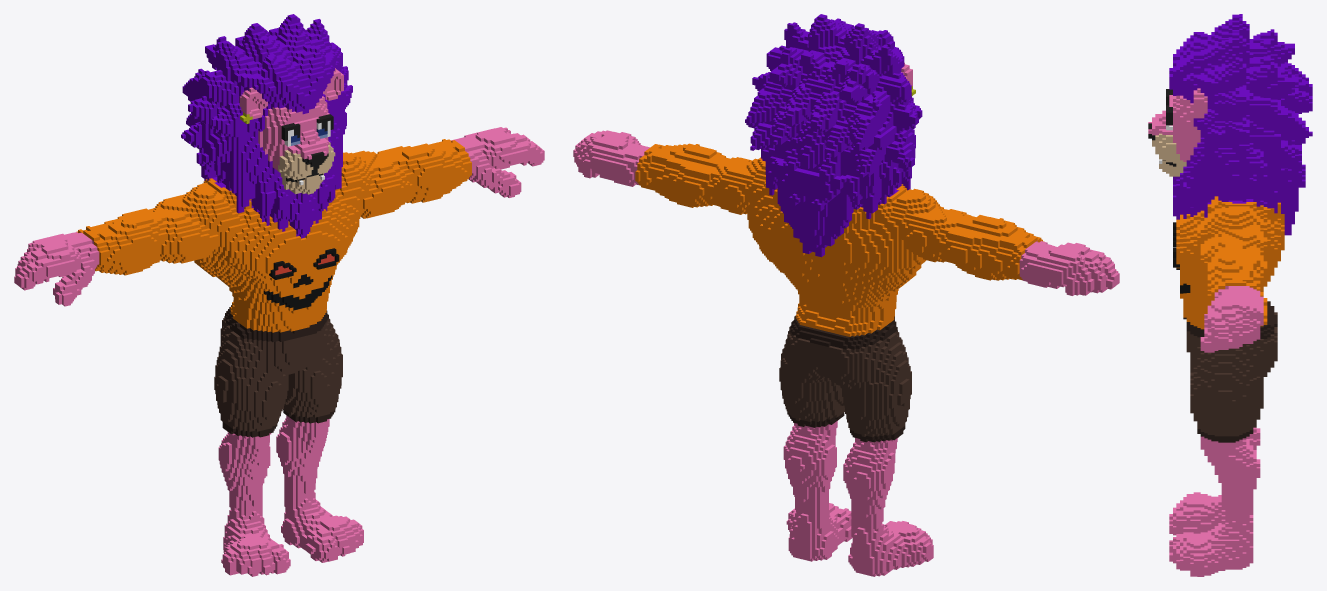
File: 901-B4c8hvqc.glb
3 renders of one model, left to right at view 1: azimuth 30°, elevation 25°; view 2: azimuth 150°, elevation 25°; view 3: azimuth 270°, elevation 25°, orthographic. The views are drawn at different scales.
Visible parts, largest first — view 1: standard; view 2: standard; view 3: standard.
Part boxes in pixels (left/top/right/bottom): standard: left=14, top=14, right=544, bottom=576; standard: left=573, top=14, right=1119, bottom=576; standard: left=1148, top=14, right=1312, bottom=576.
Size of the model in its own units: 17.2 by 16.5 by 4.7.
6 materials, 6 textured.
